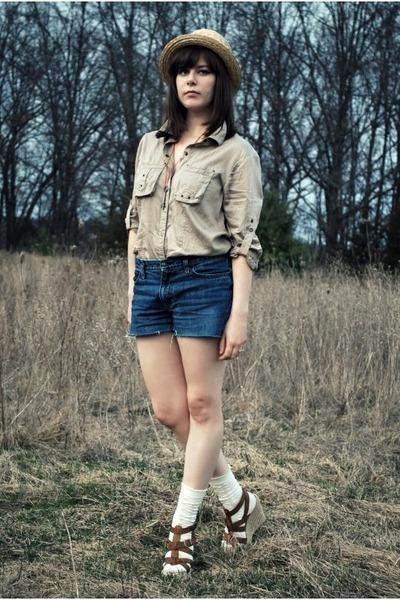hat: (138, 12, 247, 74)
shirt: (125, 131, 263, 299)
shoe: (156, 496, 251, 599)
shorts: (129, 254, 233, 347)
